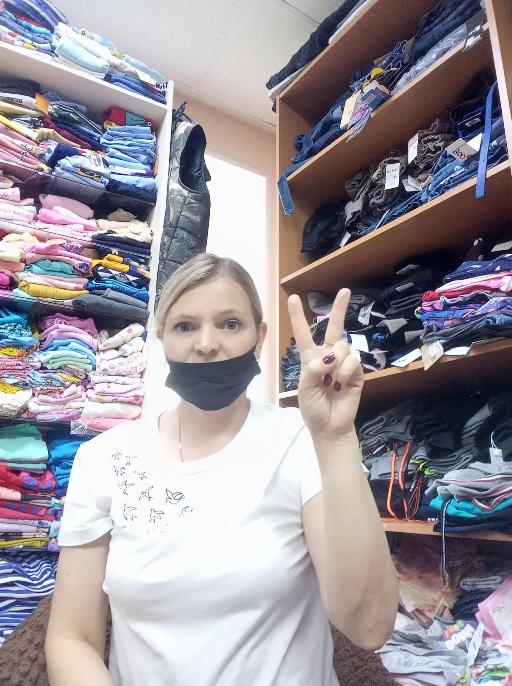peace: (284, 284, 367, 436)
